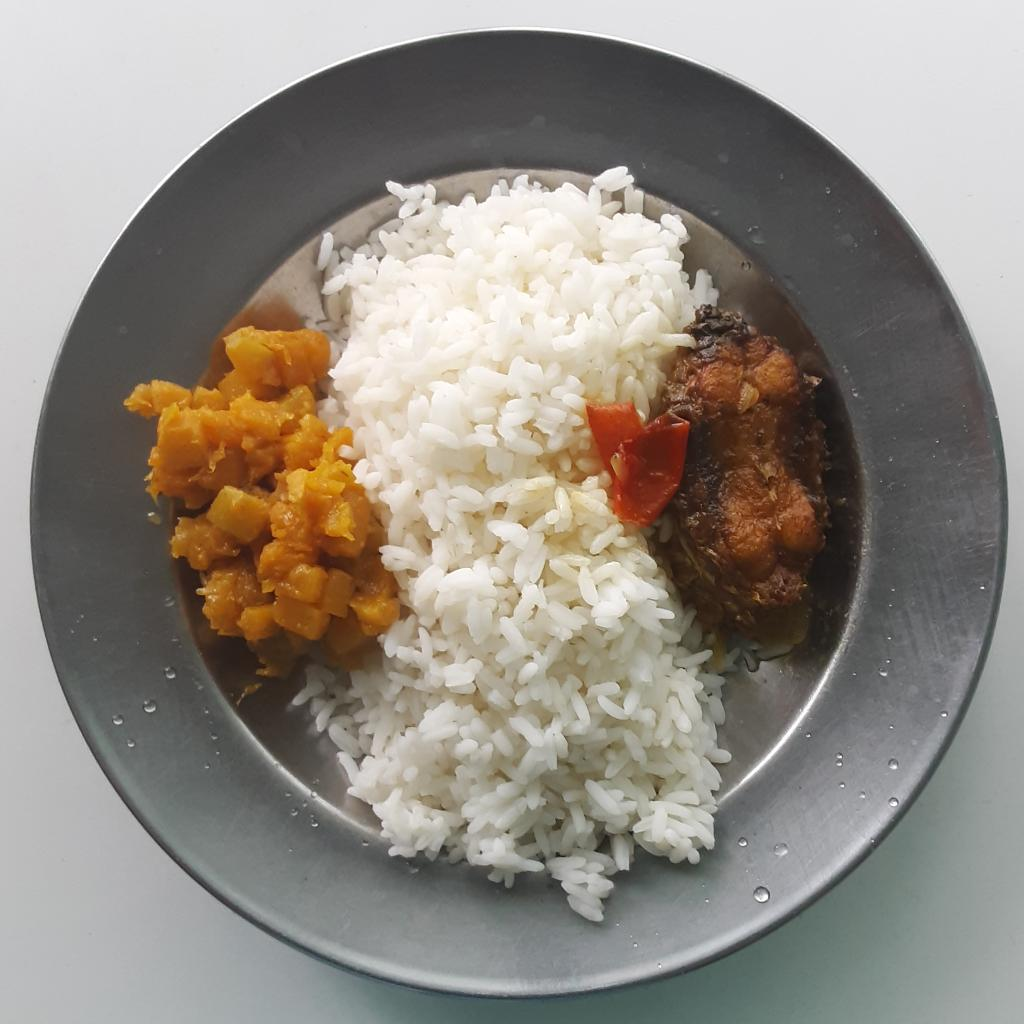fish: (593, 301, 843, 660)
kumra-vaji: (131, 328, 403, 677)
rice: (293, 161, 736, 926)
